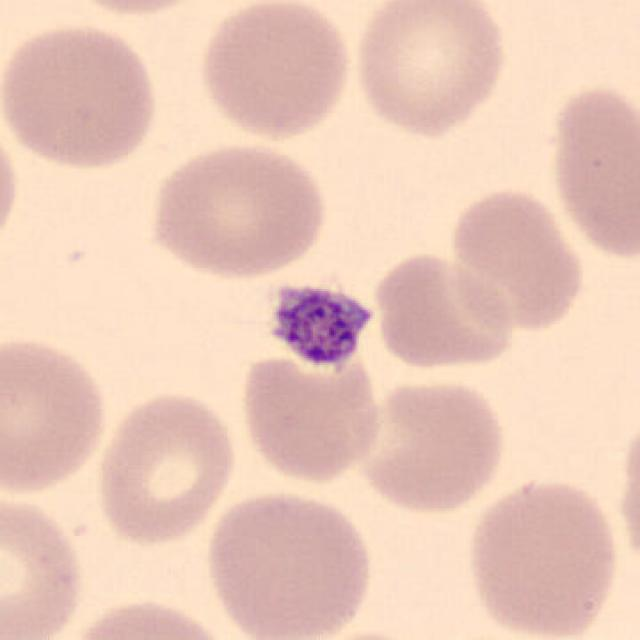Platelets: (263, 277, 379, 374)
RBC: (142, 136, 332, 282), (201, 486, 379, 640), (460, 474, 622, 640), (0, 18, 164, 174), (90, 386, 242, 550), (194, 0, 357, 145), (350, 370, 510, 517), (348, 0, 511, 139), (235, 338, 388, 486), (444, 182, 588, 335), (0, 328, 112, 499), (370, 247, 519, 374), (544, 78, 640, 264), (0, 490, 91, 640), (62, 592, 236, 640), (613, 404, 640, 575), (0, 115, 23, 258), (50, 0, 222, 18), (278, 626, 452, 640)
